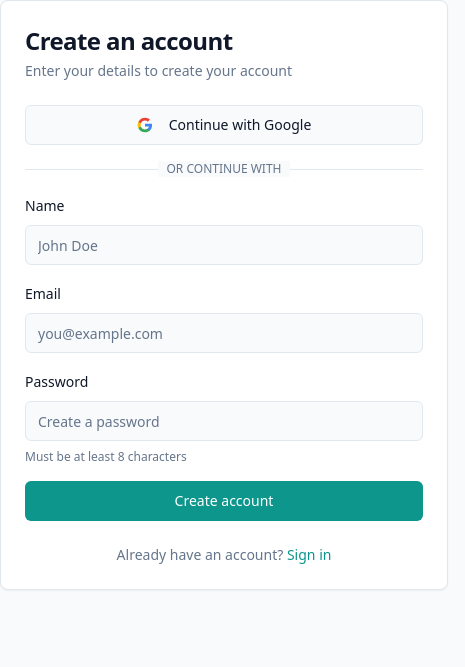
Test: SignUpForm › displays generic error on exception
Type "John" into the field labelled "Name" at [224, 245], box [25, 225, 423, 265]
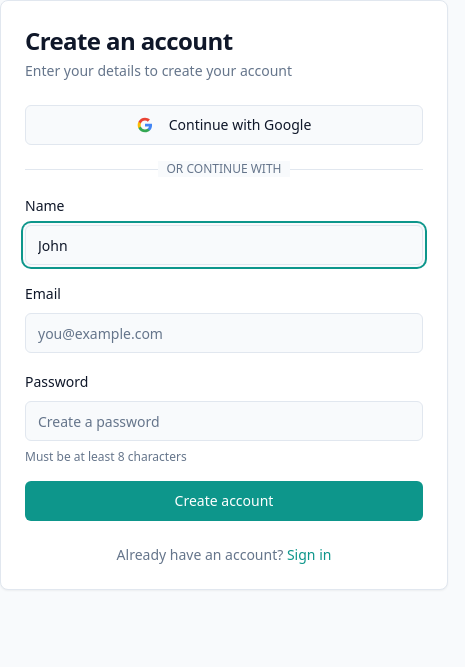
Type "john@test.com" into the field labelled "Email" at [224, 333], box [25, 313, 423, 353]
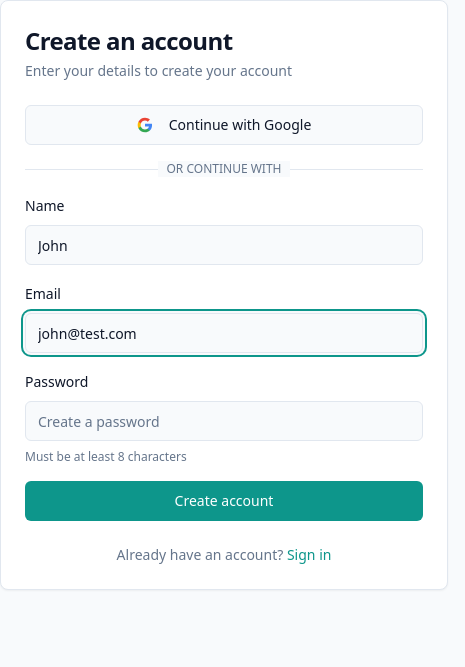
Type "password123" into the password field labelled "Password" at [224, 421], box [25, 401, 423, 441]
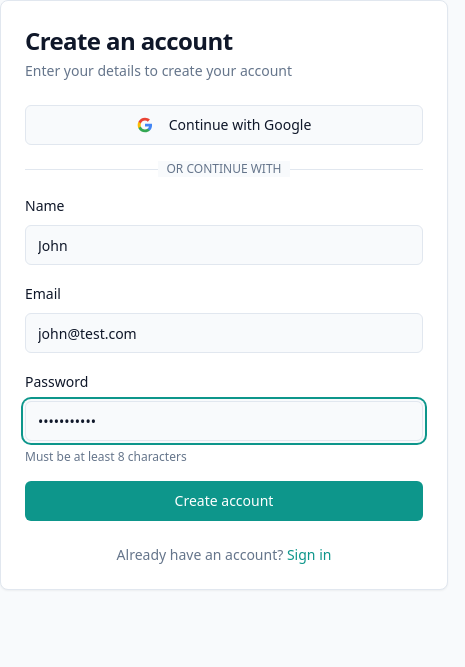
Click the button "Create account" at [224, 501], box [25, 481, 423, 521]
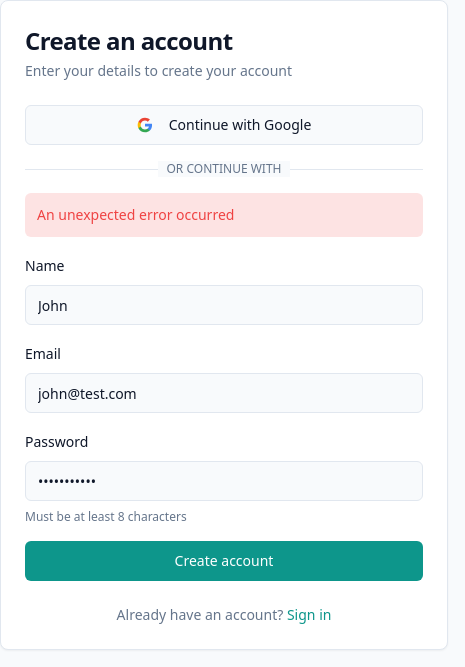
Expected: the text "An unexpected error occurred" is shown, [25, 193, 423, 237]
